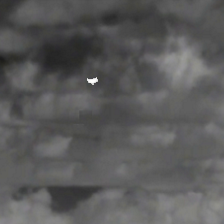Target: (87, 75, 99, 85)
